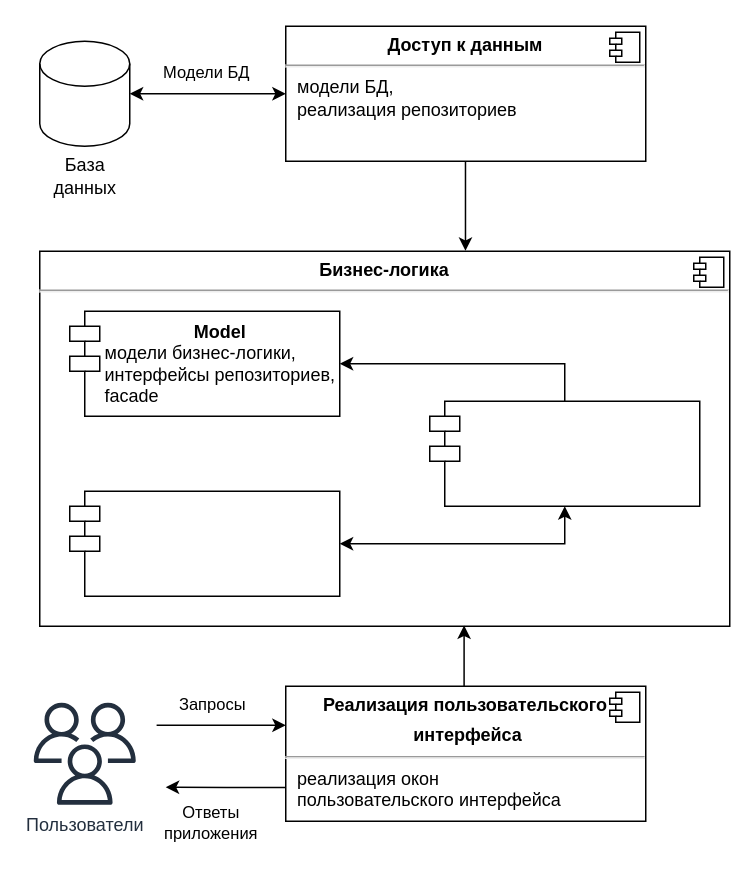
The diagram is 756 pixels wide and 869 high, and some of its shapes have lost their labels. The shapes that lost their labels are listed below. From the top down, each one's centre as x and y in pixels, then its label:
At point 564,453: "Presenter presenter".
At point 204,543: "View интерфейсы окон пользовательского интерфейса".
